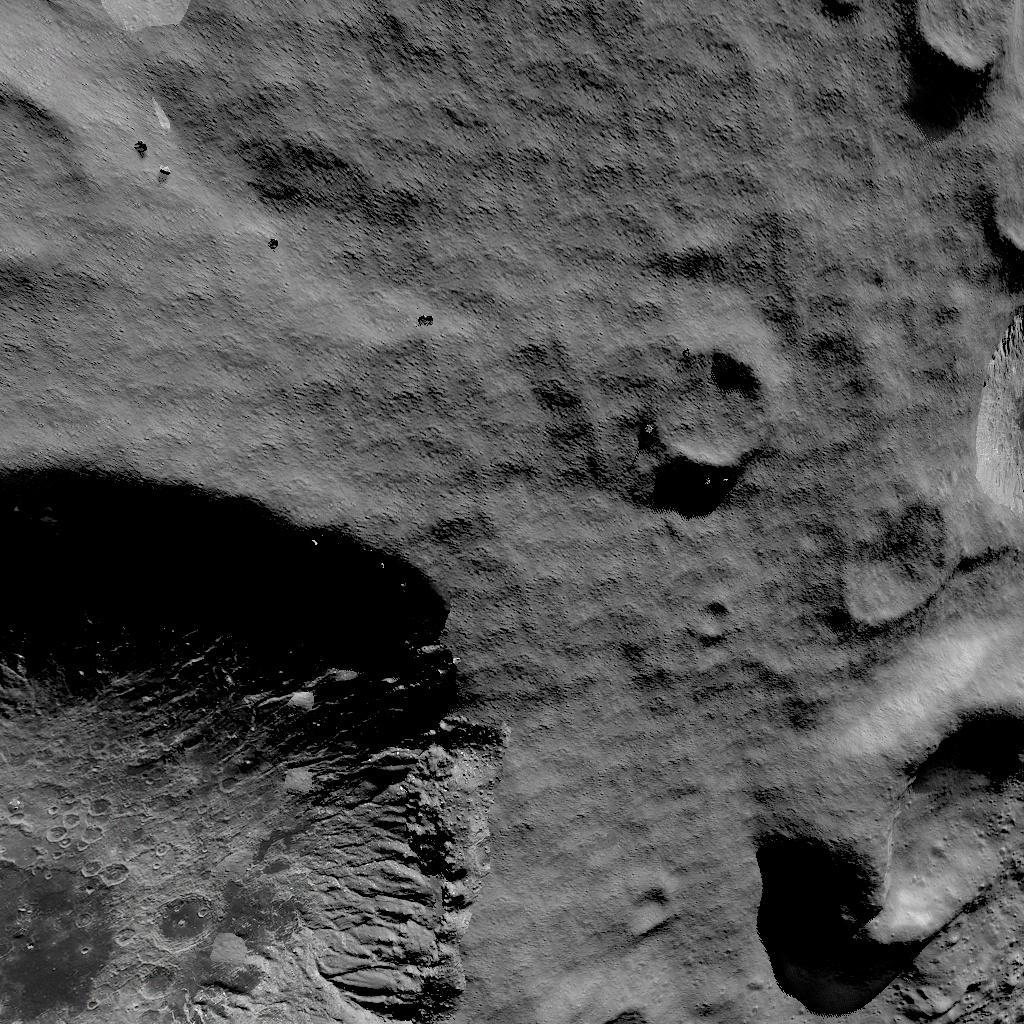Boulders: (104, 0, 200, 57)
Crater: (0, 472, 509, 1024), (773, 684, 1024, 1024), (813, 319, 1024, 652), (0, 98, 117, 304), (635, 350, 778, 487), (895, 0, 1021, 124), (963, 156, 1024, 289), (801, 2, 856, 56)
Plan surface: (139, 100, 613, 456), (631, 98, 871, 297)
